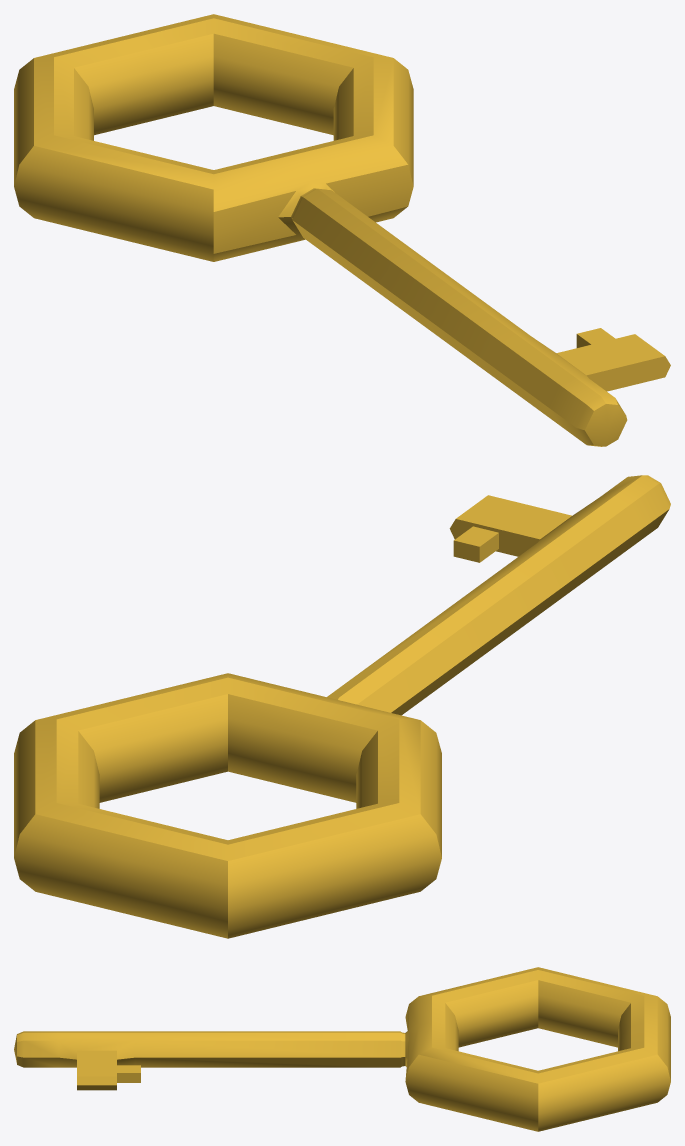
Rendered from Chiave.fbx.
3 views of the same model, one above another, from view 1: azimuth 30°, elevation 25°; view 2: azimuth 150°, elevation 25°; view 3: azimuth 270°, elevation 25° (orthographic). The views are drawn at different scales.
Parts seen in each view (by area): view 1: Chiave; view 2: Chiave; view 3: Chiave.
Part boxes in pixels (<box>): Chiave: <box>14,14,670,446</box>; Chiave: <box>14,475,670,938</box>; Chiave: <box>14,967,670,1131</box>.
Bounding box in the file's own units: 21.29 × 4.26 × 45.62.
